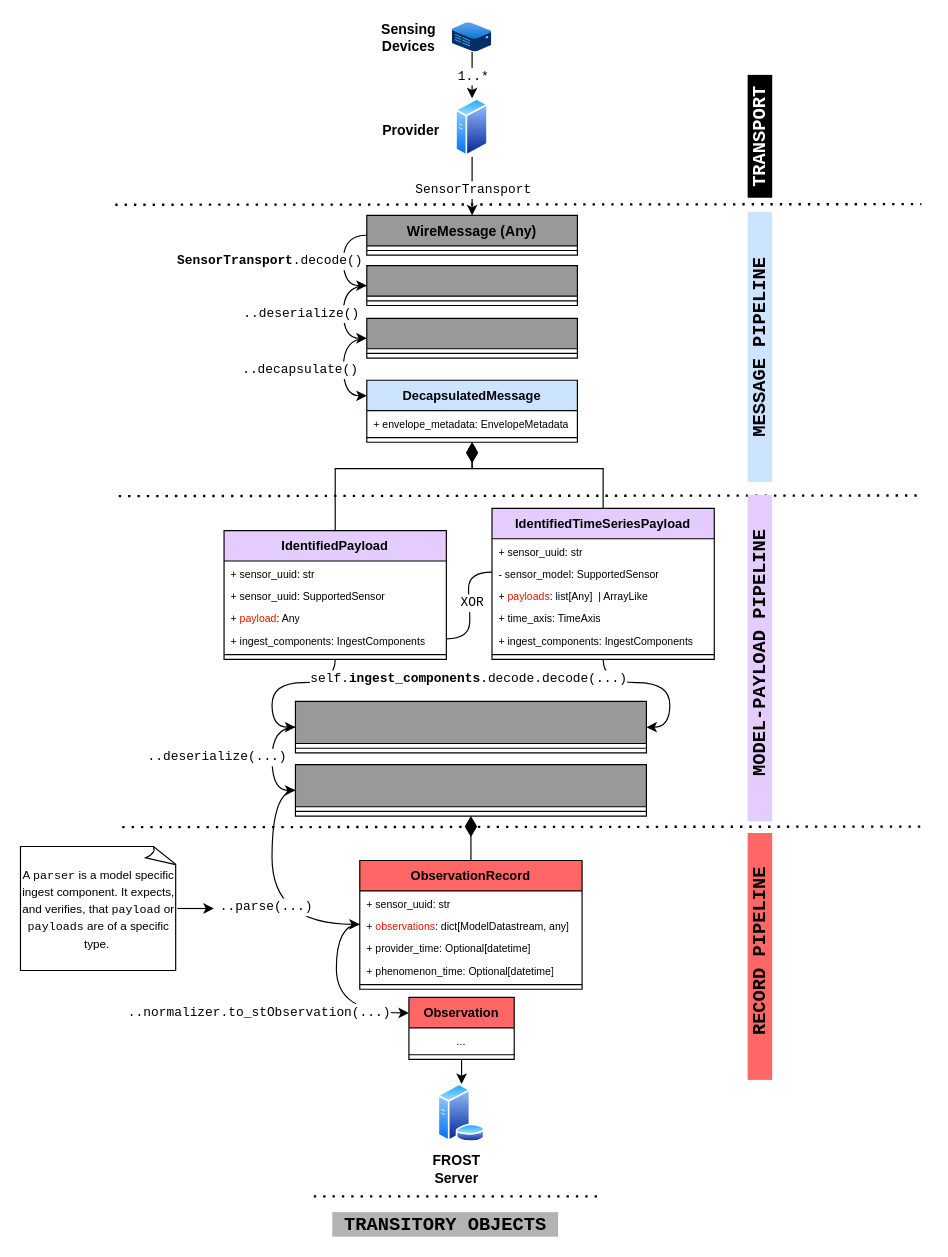
Some shapes in this 948 by 1257 pixel diagram are drawn without their labels. Each missing label, with the centre of its shape:
"<<IdentifiedPayload | IdentifiedTimeSeriesPayload>> DecodedPayload" goes at point 470,726.
"<<IdentifiedPayload | IdentifiedTimeSeriesPayload>> DeserializedPayload" goes at point 470,789.
"DecodedMessage (Any)" goes at point 471,285.
"DeserializedMessage (Any)" goes at point 471,337.
